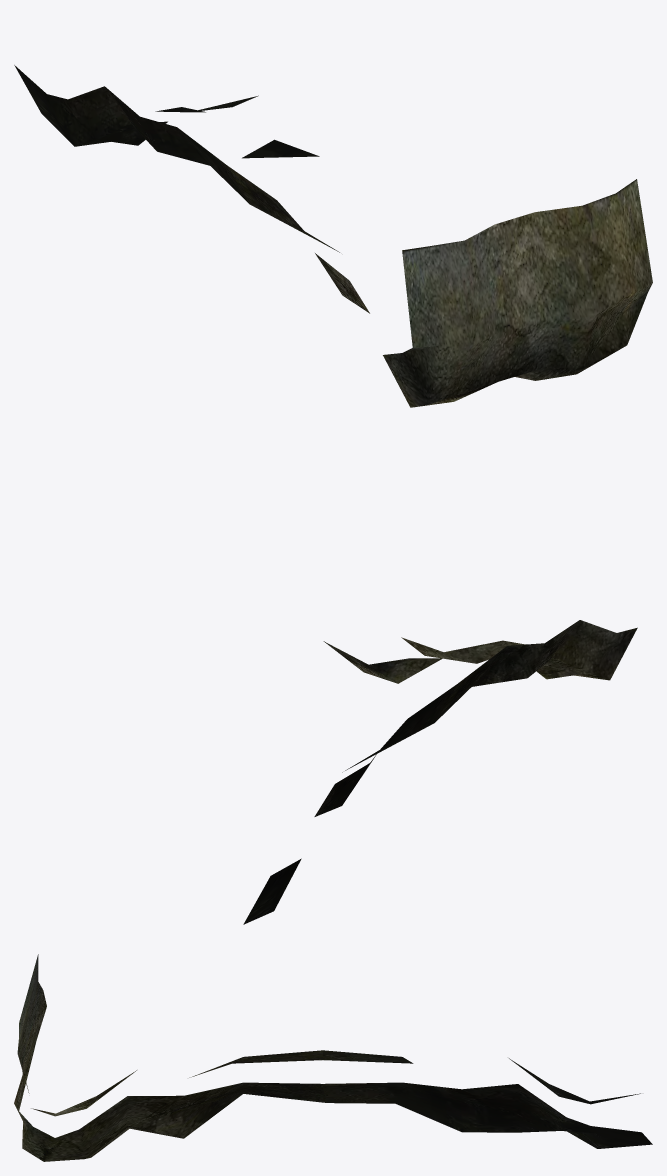
3 renders of one model, top to bottom at view 1: azimuth 30°, elevation 25°; view 2: azimuth 150°, elevation 25°; view 3: azimuth 270°, elevation 25°, orthographic. The views are drawn at different scales.
Visible parts, largest first — view 1: model_Object12; view 2: model_Object12; view 3: model_Object12.
Boxes of the visible parts, <box> form: model_Object12: <box>14,65,652,407</box>; model_Object12: <box>243,620,637,924</box>; model_Object12: <box>14,954,652,1161</box>.
Size of the model in its own units: 4.84 by 3.36 by 12.94.
Materials: 2 (2 with a texture image).
